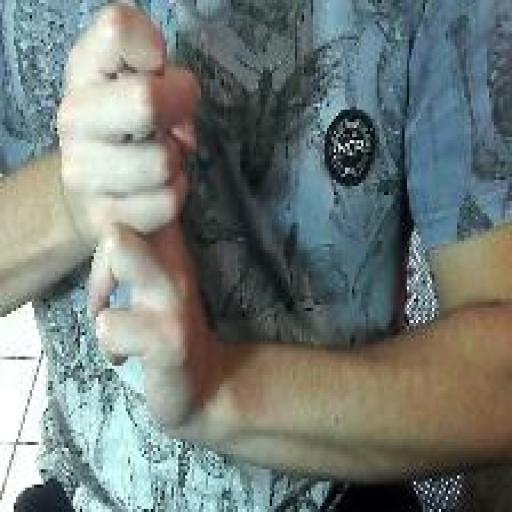Ne -rat-: (53, 0, 210, 451)
